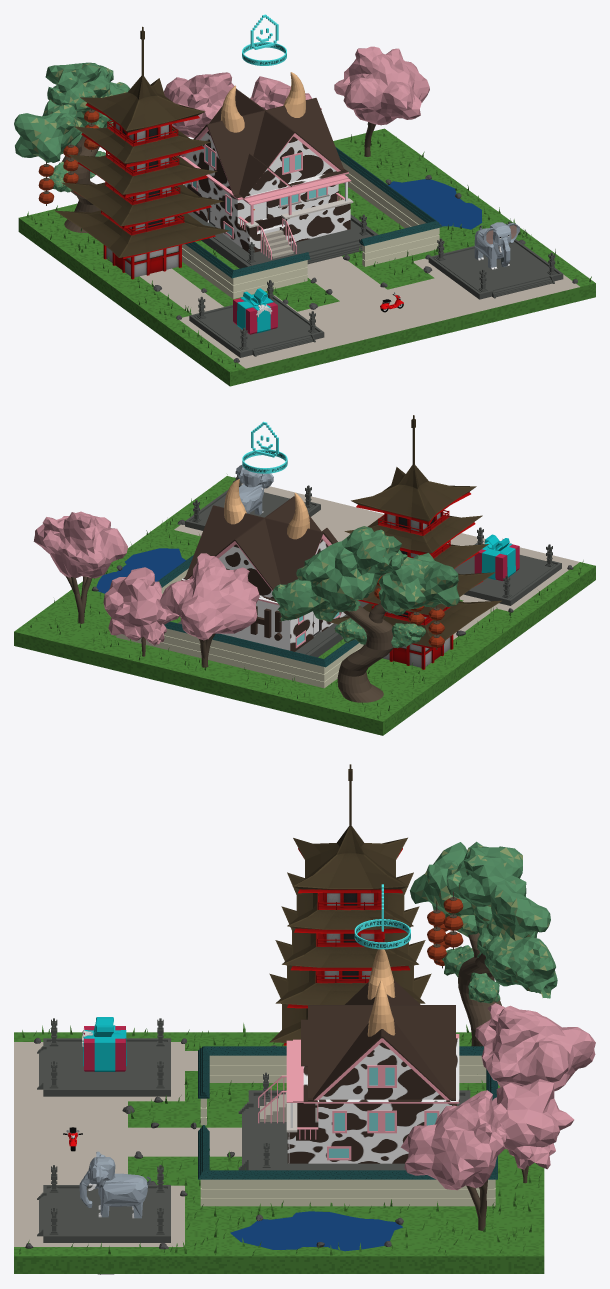
The picture shows the model from 3 angles, top to bottom: view 1: azimuth 30°, elevation 25°; view 2: azimuth 150°, elevation 25°; view 3: azimuth 270°, elevation 25°; orthographic projection. The views are drawn at different scales.
Parts seen in each view (by area): view 1: Cube.005, Cube.1242, OBJRANDOM_GIANT_PRESENT, ANIMAL_ELEFANTE, TYPE_PREMIUM; view 2: Cube.005, Cube.1242, OBJRANDOM_GIANT_PRESENT, ANIMAL_ELEFANTE, TYPE_PREMIUM; view 3: Cube.005, Cube.1242, ANIMAL_ELEFANTE, OBJRANDOM_GIANT_PRESENT, TYPE_PREMIUM.
Part boxes in pixels (x1,y1,x2,y2): Cube.005: (14,26,595,386); Cube.1242: (178,72,353,259); OBJRANDOM_GIANT_PRESENT: (233,288,277,334); ANIMAL_ELEFANTE: (474,222,519,269); TYPE_PREMIUM: (242,14,286,65); Cube.005: (14,415,595,735); Cube.1242: (181,479,345,651); OBJRANDOM_GIANT_PRESENT: (474,534,519,580); ANIMAL_ELEFANTE: (236,464,273,515); TYPE_PREMIUM: (242,421,287,473); Cube.005: (14,764,595,1273); Cube.1242: (258,949,459,1163); ANIMAL_ELEFANTE: (79,1151,150,1218); OBJRANDOM_GIANT_PRESENT: (82,1017,126,1071); TYPE_PREMIUM: (354,884,410,949).
Bounding box in the file's own units: 4528 × 2663 × 4389.
44 materials, 6 textured.
